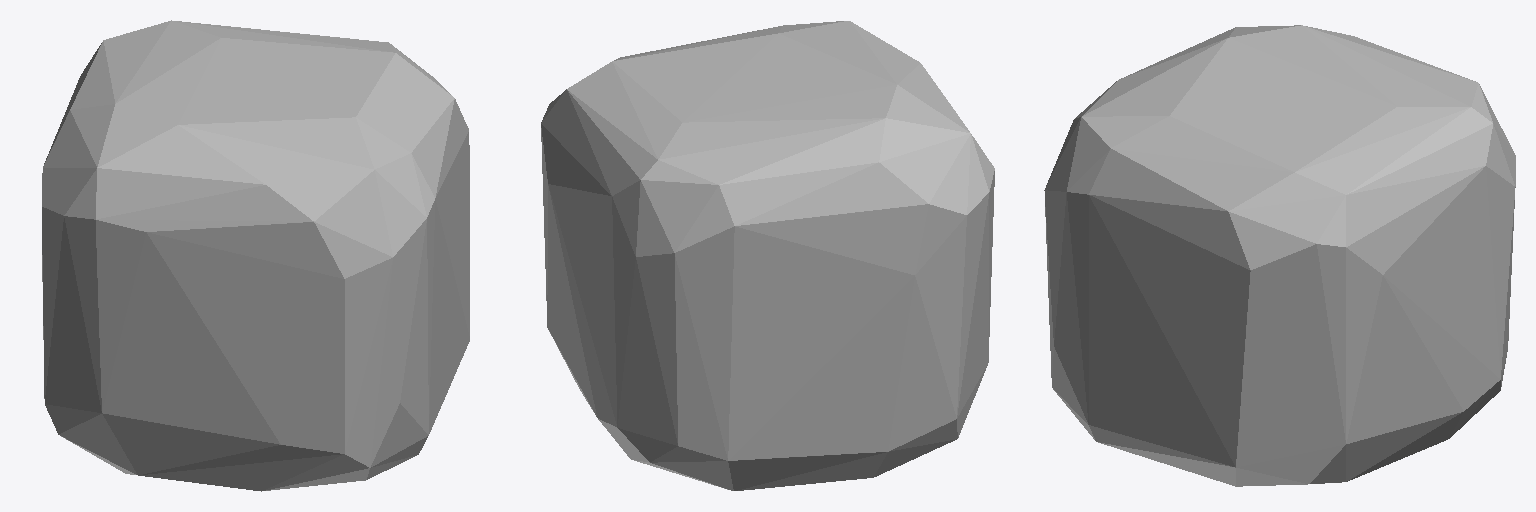
The robot description file, URDF, robot "root":
<robot name="root">
  <link name="link_ycb~077_rubiks_cube_convex_piece_0">
    <inertial>
      <origin xyz="0 0 0" rpy="0 0 0"/>
      <mass value="8.59E-01"/>
      <inertia ixx="5.20E-04" ixy="-3.09E-07" ixz="1.39E-06" iyy="5.16E-04" iyz="-4.98E-06" izz="5.36E-04"/>
    </inertial>
    <visual>
      <origin xyz="0 0 0" rpy="0 0 0"/>
      <geometry>
        <mesh filename="ycb~077_rubiks_cube_convex_piece_0.obj" scale="1.0000E+00 1.0000E+00 1.0000E+00"/>
      </geometry>
      <material name="">
        <color rgba="7.50E-01 7.50E-01 7.50E-01 1"/>
      </material>
    </visual>
    <collision>
      <origin xyz="0 0 0" rpy="0 0 0"/>
      <geometry>
        <mesh filename="ycb~077_rubiks_cube_convex_piece_0.obj" scale="1.0000E+00 1.0000E+00 1.0000E+00"/>
      </geometry>
    </collision>
  </link>
</robot>

--- Facts derived from the render (not from the file) ---
The picture shows the robot from 3 angles, left to right: view 1: azimuth 30°, elevation 25°; view 2: azimuth 150°, elevation 25°; view 3: azimuth 270°, elevation 25°; orthographic projection.
Model root with 1 links and 0 joints (none), rooted at link_ycb~077_rubiks_cube_convex_piece_0, posed every joint at zero.
Links seen in each view (by area): view 1: link_ycb~077_rubiks_cube_convex_piece_0; view 2: link_ycb~077_rubiks_cube_convex_piece_0; view 3: link_ycb~077_rubiks_cube_convex_piece_0.
Boxes of the visible links, bbox=[...] form: link_ycb~077_rubiks_cube_convex_piece_0: bbox=[42, 20, 469, 491]; link_ycb~077_rubiks_cube_convex_piece_0: bbox=[541, 21, 994, 490]; link_ycb~077_rubiks_cube_convex_piece_0: bbox=[1044, 25, 1515, 486].
Bounding box of the posed robot: 0.0787 × 0.08 × 0.065 m (x, y, z).
Meshes: 1 distinct files referenced, 1 mesh visuals loaded (1 OBJ).